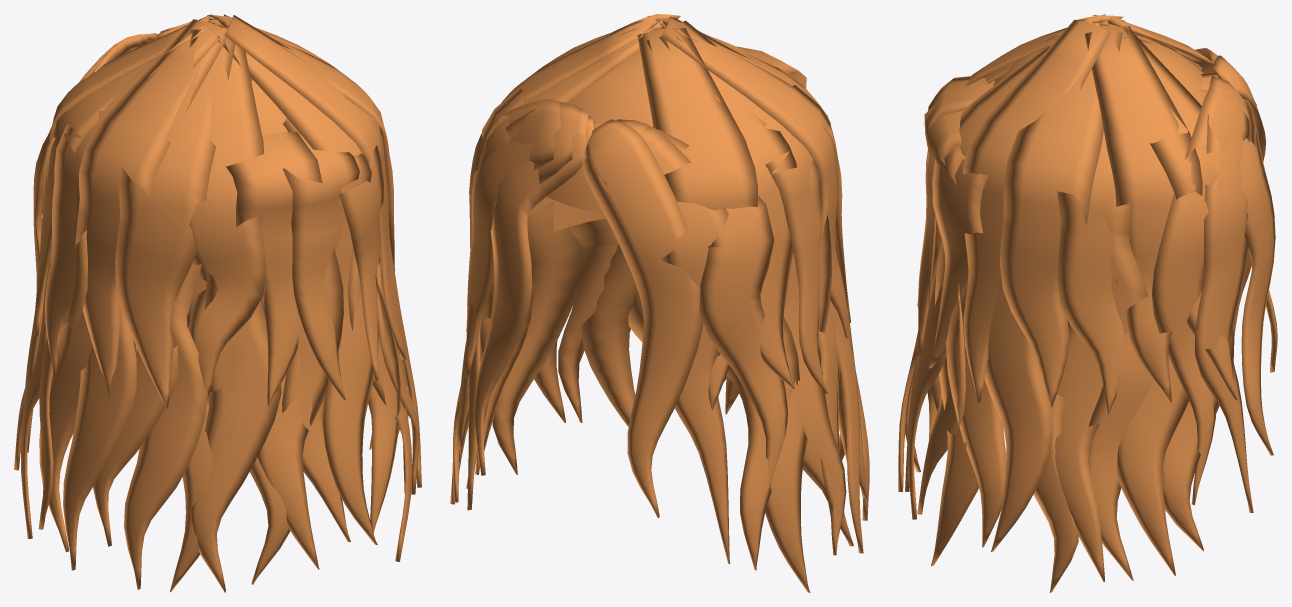
The model's file is solaris_hair.fbx.
The picture shows the model from 3 angles, left to right: view 1: azimuth 30°, elevation 25°; view 2: azimuth 150°, elevation 25°; view 3: azimuth 270°, elevation 25°; orthographic projection. The views are drawn at different scales.
Parts seen in each view (by area): view 1: SolarisHair; view 2: SolarisHair; view 3: SolarisHair.
Part boxes in pixels (x1,y1,x2,y2): SolarisHair: [14, 14, 421, 592]; SolarisHair: [450, 14, 869, 592]; SolarisHair: [898, 14, 1277, 592].
Size of the model in its own units: 190 by 259 by 178.
